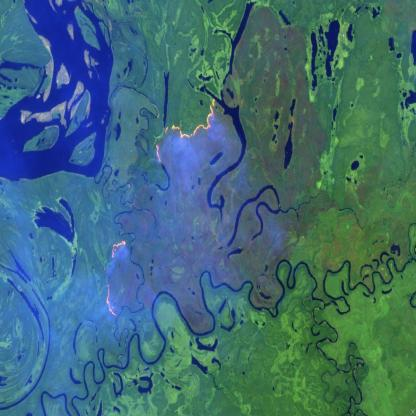fire: (149, 84, 222, 172), (101, 233, 129, 322)
